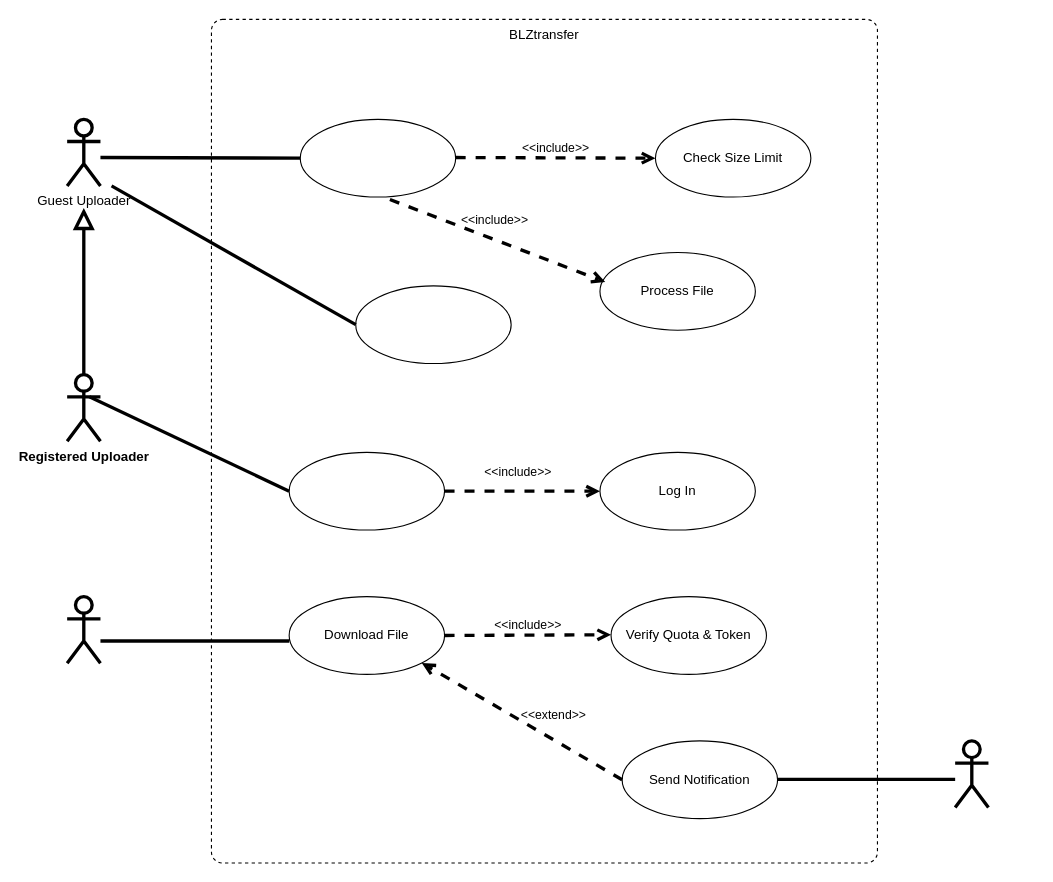
The diagram is 1053 pixels wide and 882 high, and some of its shapes have lost their labels. The box of each missing label's shape, as (x1, y1, x2, y2) in pixels:
Downloader: (65, 594, 102, 664)
Get Shareable Link & QR: (355, 285, 511, 364)
Manage Own Files: (288, 451, 445, 530)
Notification System: (953, 739, 990, 809)
Upload File: (299, 118, 456, 197)
